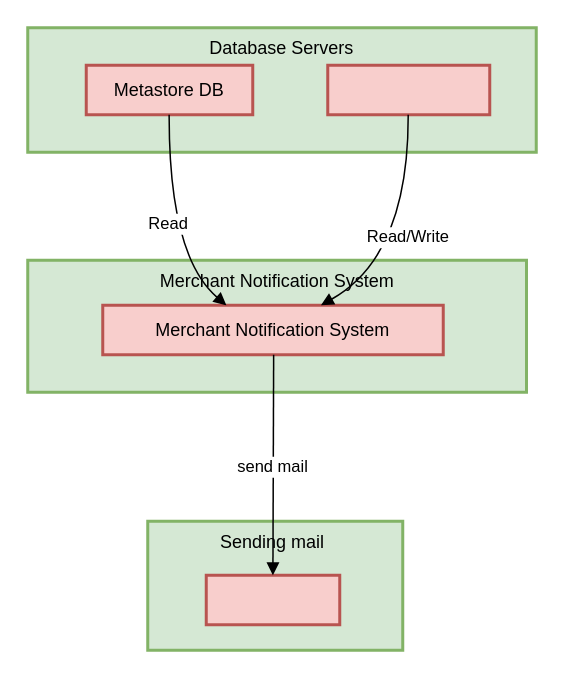
Some shapes in this 563 by 677 pixel diagram are drawn without their labels. The shapes that lost their labels are listed below. From the top down, each one's centre as x and y in pixels, then its label:
(x=408, y=89): Datastore DB
(x=272, y=599): Mail Utilities
